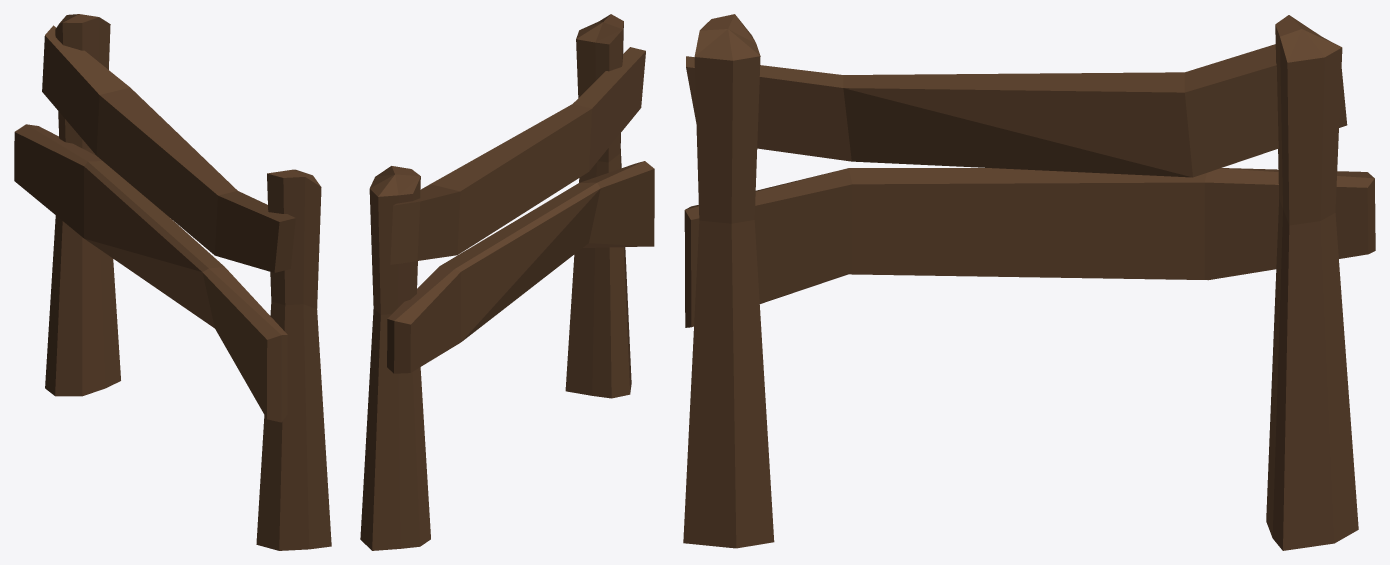
The model's file is railFence3.glb.
The picture shows the model from 3 angles, left to right: view 1: azimuth 30°, elevation 25°; view 2: azimuth 150°, elevation 25°; view 3: azimuth 270°, elevation 25°; orthographic projection. The views are drawn at different scales.
Parts seen in each view (by area): view 1: railFence3; view 2: railFence3; view 3: railFence3.
Part boxes in pixels (x1,y1,x2,y2): railFence3: (14, 14, 331, 550); railFence3: (360, 14, 654, 550); railFence3: (683, 14, 1375, 550).
Bounding box in the file's own units: 0.2324 × 1.05 × 1.32.
